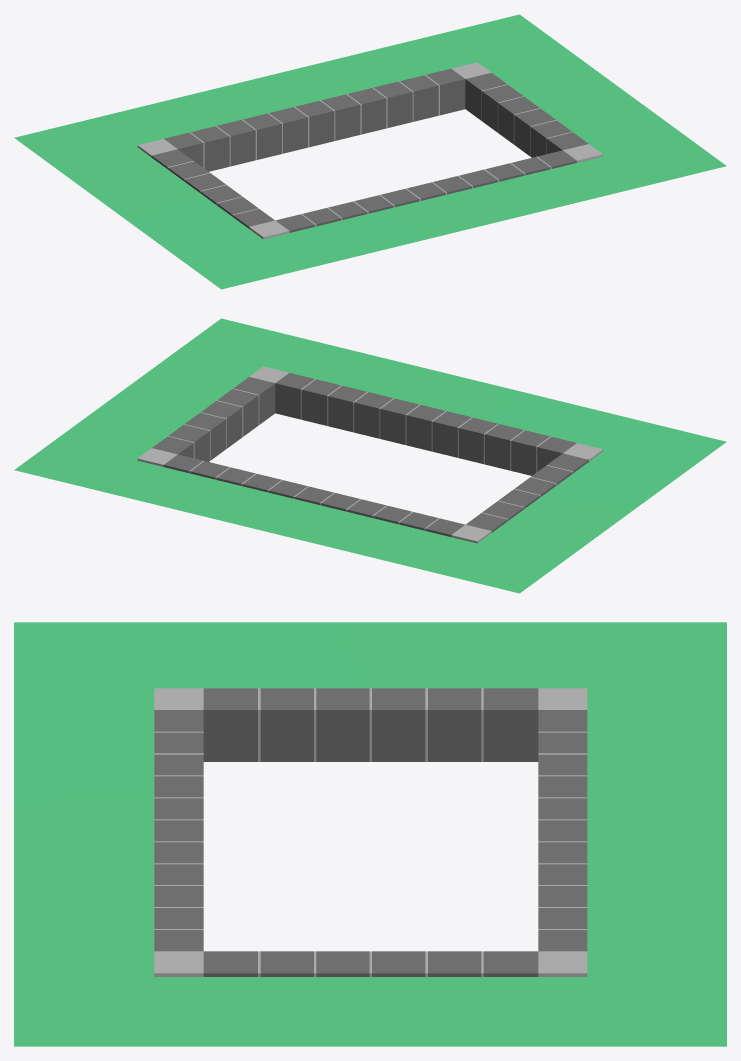
The model's file is SANBEBOI.fbx.
3 renders of one model, top to bottom at view 1: azimuth 30°, elevation 25°; view 2: azimuth 150°, elevation 25°; view 3: azimuth 270°, elevation 25°, orthographic. The views are drawn at different scales.
Visible parts, largest first — view 1: SANBEBOI; view 2: SANBEBOI; view 3: SANBEBOI.
Boxes of the visible parts, box(x1,y1,x2,y2) form: SANBEBOI: box(14, 14, 726, 289); SANBEBOI: box(14, 318, 726, 593); SANBEBOI: box(14, 622, 726, 1046).
Size of the model in its own units: 5290 by 301 by 3756.
